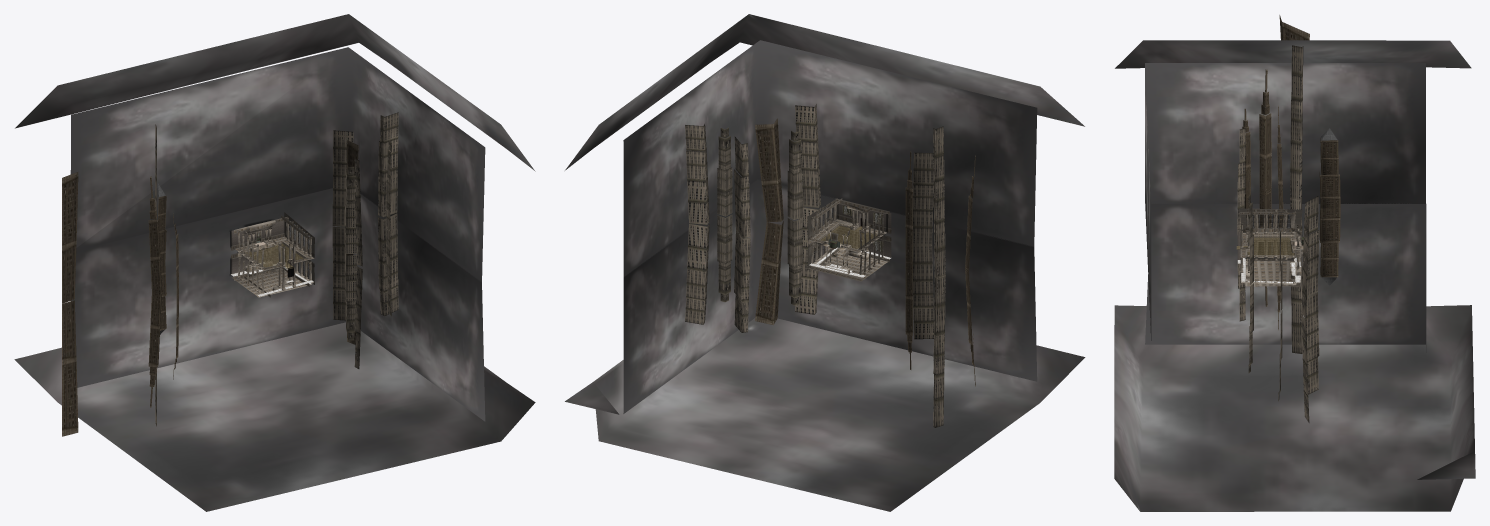
The model's file is lawbot_lobby.glb.
3 views of the same model, side by side, from view 1: azimuth 30°, elevation 25°; view 2: azimuth 150°, elevation 25°; view 3: azimuth 270°, elevation 25° (orthographic). The views are drawn at different scales.
Visible parts, largest first — view 1: CH_SkySides, CH_SkyTopRefl, CH_SkySidesRefl, CH_SkyTop, CH_BGBuildings, CH_BGBuildings_9, CH_BGBuildings_1, CH_BGBuildings_11, CH_BGBuildings_10, CH_BGBuildings_12, CH_LobbyRoof, CH_LobbyFloor (+1 smaller); view 2: CH_SkyTopRefl, CH_SkySides, CH_SkySidesRefl, CH_BGBuildings, CH_SkyTop, CH_BGBuildings_1, CH_BGBuildings_5, CH_BGBuildings_8, CH_BGBuildings_13, CH_BGBuildings_11, CH_BGBuildings_4, CH_BGBuildings_3 (+4 smaller); view 3: CH_SkyTopRefl, CH_SkySides, CH_SkySidesRefl, CH_BGBuildings, CH_SkyTop, CH_BGBuildings_7, CH_BGBuildings_11, CH_LobbyRoof, CH_BGBuildings_13, CH_LobbyFloor, CH_Walls_5, CH_BGBuildings_1 (+1 smaller).
Part boxes in pixels (x1,y1,x2,y2): CH_SkySides: (70,47,485,282); CH_SkyTopRefl: (14,322,535,511); CH_SkySidesRefl: (71,188,485,421); CH_SkyTop: (15,14,535,171); CH_BGBuildings: (62,112,398,303); CH_BGBuildings_9: (62,300,78,436); CH_BGBuildings_1: (378,213,398,315); CH_BGBuildings_11: (332,226,345,320); CH_BGBuildings_10: (148,288,161,407); CH_BGBuildings_12: (345,252,356,340); CH_LobbyRoof: (231,268,311,297); CH_LobbyFloor: (245,243,303,269); CH_SkyTopRefl: (565,318,1085,511); CH_SkySides: (623,40,1037,276); CH_SkySidesRefl: (623,179,1037,413); CH_BGBuildings: (685,104,975,279); CH_SkyTop: (565,14,1084,170); CH_BGBuildings_1: (685,223,709,324); CH_BGBuildings_5: (755,221,783,325); CH_BGBuildings_8: (913,245,933,339); CH_BGBuildings_13: (933,274,945,427); CH_BGBuildings_11: (734,231,750,332); CH_BGBuildings_4: (795,207,820,314); CH_BGBuildings_3: (717,215,732,302); CH_SkyTopRefl: (1114,305,1475,511); CH_SkySides: (1145,63,1425,340); CH_SkySidesRefl: (1145,203,1426,352); CH_BGBuildings: (1237,15,1340,319); CH_SkyTop: (1115,40,1471,68); CH_BGBuildings_7: (1319,197,1340,285); CH_BGBuildings_11: (1304,292,1319,394); CH_LobbyRoof: (1245,260,1301,286); CH_BGBuildings_13: (1290,197,1302,353); CH_LobbyFloor: (1236,237,1294,255); CH_Walls_5: (1239,208,1302,232); CH_BGBuildings_1: (1301,314,1309,422).
Size of the model in its own units: 2550 by 2015 by 1980.
28 materials, 27 textured.
